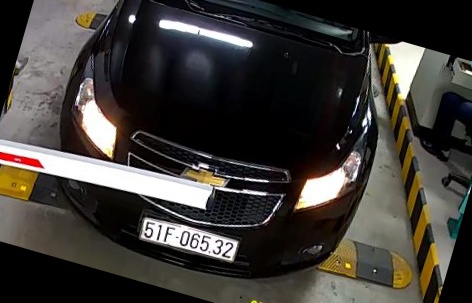plate: (140, 216, 241, 262)
